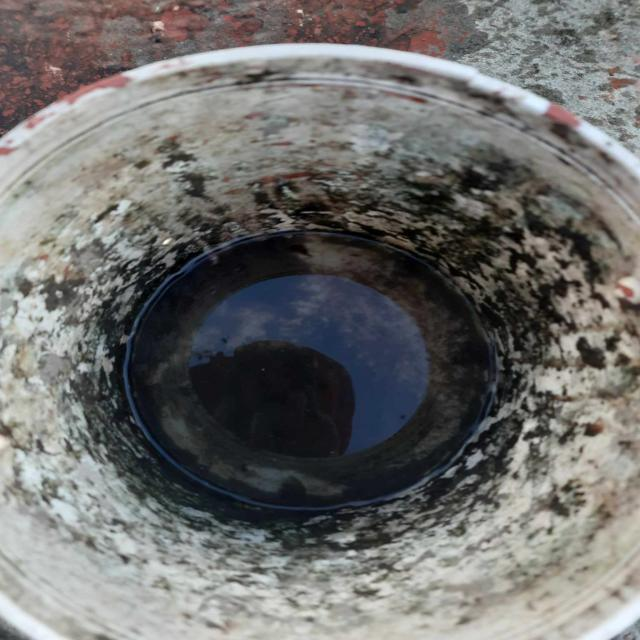Breeding Place: (0, 35, 640, 640)
